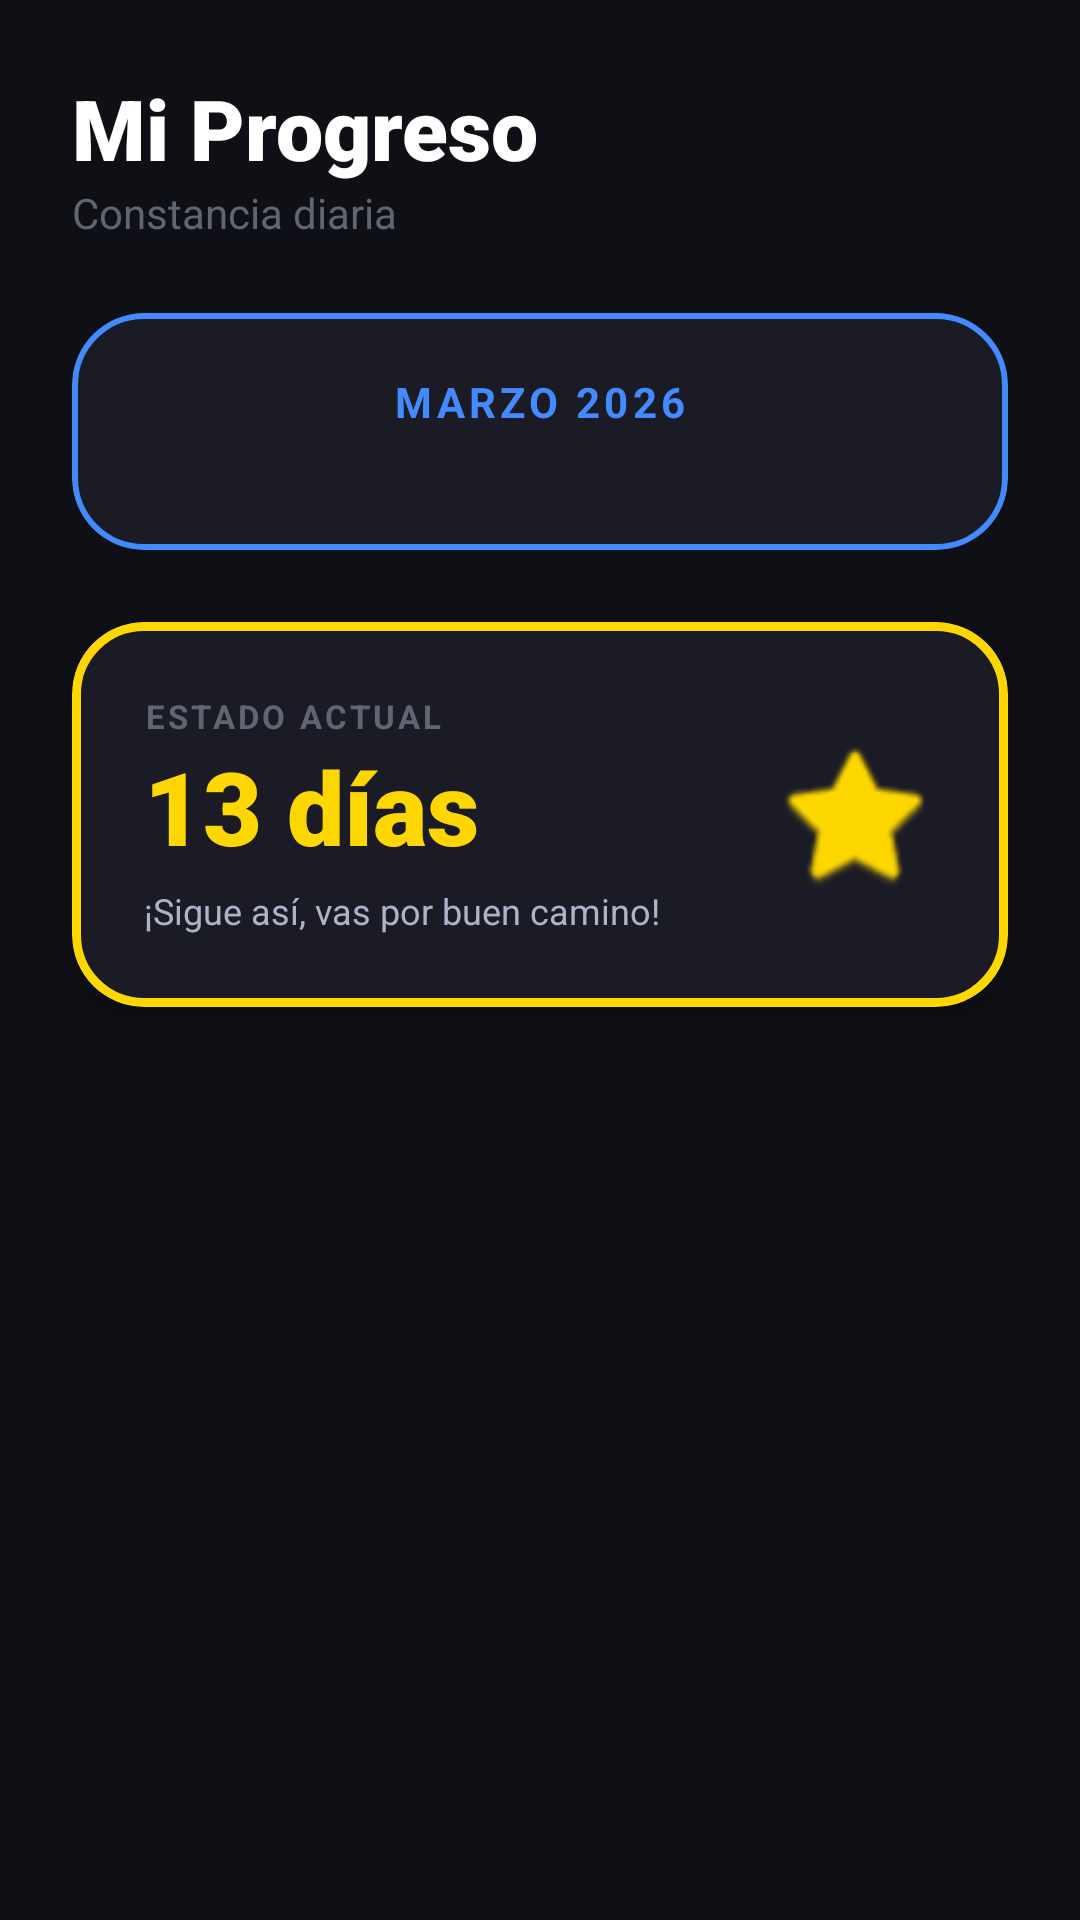

Icons on this 1080x1920 Android screen, each with its box as (x1, y1, x2, y2):
star on: (786, 749, 924, 883)
